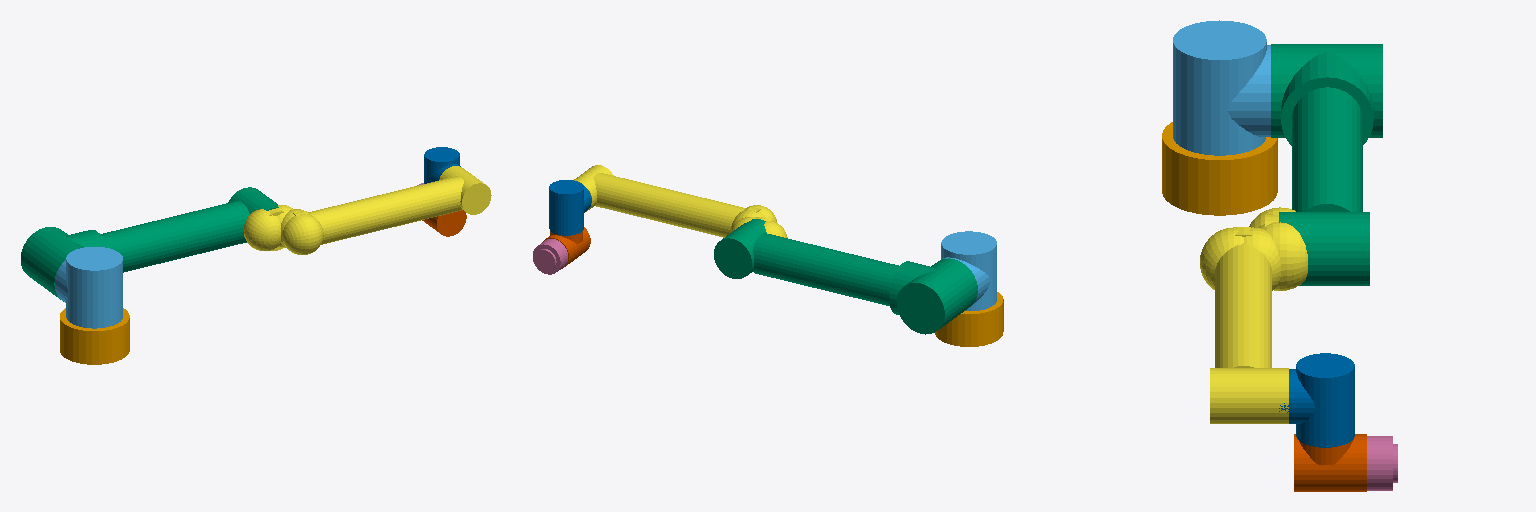
URDF robot description ([local-path]/hackweek/UR10e.urdf):
<?xml version="1.0"?>
<robot name="[local-path]/hackweek/UR10e.urdf" xmlns:xacro="http://ros.org/wiki/xacro">
  <link name="base_link">
    <visual>
      <origin xyz="0 0 0.05" rpy="-3.141592 0 0"/>
      <geometry>
        <cylinder radius="0.095" length="0.1"/>
      </geometry>
    </visual>
    <collision>
      <origin xyz="0 0 0.05" rpy="-3.141592 0 0"/>
      <geometry>
        <cylinder radius="0.095" length="0.1"/>
      </geometry>
    </collision>
  </link>
  <joint name="shoulder_pan_joint" type="revolute">
    <parent link="base_link"/>
    <child link="shoulder_link"/>
    <axis xyz="0 0 1"/>
    <limit effort="330" lower="-6.28319" upper="6.28319" velocity="3.14"/>
    <origin xyz="0 0 0.181" rpy="0 0 0"/>
  </joint>
  <link name="shoulder_link">
    <visual>
      <origin xyz="0 0 0" rpy="-3.141592 0 0"/>
      <geometry>
        <cylinder radius="0.077" length="0.183"/>
      </geometry>
    </visual>
    <collision>
      <origin xyz="0 0 0" rpy="-3.141592 0 0"/>
      <geometry>
        <cylinder radius="0.077" length="0.183"/>
      </geometry>
    </collision>
    <visual>
      <origin xyz="0 0.05 0" rpy="1.570797 0 0"/>
      <geometry>
        <cylinder radius="0.076" length="0.093"/>
      </geometry>
    </visual>
    <collision>
      <origin xyz="0 0.05 0" rpy="1.570797 0 0"/>
      <geometry>
        <cylinder radius="0.076" length="0.093"/>
      </geometry>
    </collision>
  </link>
  <joint name="shoulder_lift_joint" type="revolute">
    <parent link="shoulder_link"/>
    <child link="upper_arm_link"/>
    <axis xyz="0 1 0"/>
    <limit effort="330" lower="-6.28319" upper="6.28319" velocity="3.14"/>
    <origin xyz="0 0.176 0" rpy="0 1.570796 0"/>
  </joint>
  <link name="upper_arm_link">
    <visual>
      <origin xyz="0 0 0.33" rpy="-3.141592 0 0"/>
      <geometry>
        <cylinder radius="0.058" length="0.463"/>
      </geometry>
    </visual>
    <collision>
      <origin xyz="0 0 0.33" rpy="-3.141592 0 0"/>
      <geometry>
        <cylinder radius="0.058" length="0.463"/>
      </geometry>
    </collision>
    <visual>
      <origin xyz="0 0 0.06" rpy="-3.141592 0 0"/>
      <geometry>
        <cylinder radius="0.076" length="0.1"/>
      </geometry>
    </visual>
    <collision>
      <origin xyz="0 0 0.06" rpy="-3.141592 0 0"/>
      <geometry>
        <cylinder radius="0.076" length="0.1"/>
      </geometry>
    </collision>
    <visual>
      <origin xyz="0 0 0" rpy="-1.570796 0 0"/>
      <geometry>
        <cylinder radius="0.077" length="0.183"/>
      </geometry>
    </visual>
    <collision>
      <origin xyz="0 0 0" rpy="-1.570796 0 0"/>
      <geometry>
        <cylinder radius="0.077" length="0.183"/>
      </geometry>
    </collision>
    <visual>
      <origin xyz="0 -0.005 0.612" rpy="-1.570796 0 0"/>
      <geometry>
        <cylinder radius="0.061" length="0.149"/>
      </geometry>
    </visual>
    <collision>
      <origin xyz="0 -0.005 0.612" rpy="-1.570796 0 0"/>
      <geometry>
        <cylinder radius="0.061" length="0.149"/>
      </geometry>
    </collision>
  </link>
  <joint name="elbow_joint" type="revolute">
    <parent link="upper_arm_link"/>
    <child link="forearm_link"/>
    <axis xyz="0 1 0"/>
    <limit effort="150" lower="-3.14159" upper="3.14159" velocity="3.14"/>
    <origin xyz="0 -0.137 0.613" rpy="0 0 0"/>
  </joint>
  <link name="forearm_link">
    <visual>
      <origin xyz="0 0 0.307" rpy="-3.141592 0 0"/>
      <geometry>
        <cylinder radius="0.047" length="0.49"/>
      </geometry>
    </visual>
    <collision>
      <origin xyz="0 0 0.307" rpy="-3.141592 0 0"/>
      <geometry>
        <cylinder radius="0.047" length="0.49"/>
      </geometry>
    </collision>
    <visual>
      <origin xyz="0 0.009 0.57" rpy="-1.570796 0 0"/>
      <geometry>
        <cylinder radius="0.046" length="0.129"/>
      </geometry>
    </visual>
    <collision>
      <origin xyz="0 0.009 0.57" rpy="-1.570796 0 0"/>
      <geometry>
        <cylinder radius="0.046" length="0.129"/>
      </geometry>
    </collision>
    <visual>
      <origin xyz="0 0.06 0" rpy="-1.570796 0 0"/>
      <geometry>
        <cylinder radius="0.058" length="0.05"/>
      </geometry>
    </visual>
    <collision>
      <origin xyz="0 0.06 0" rpy="-1.570796 0 0"/>
      <geometry>
        <cylinder radius="0.058" length="0.05"/>
      </geometry>
    </collision>
    <visual>
      <origin xyz="0 0.06 -0.025" rpy="-1.570796 0 0"/>
      <geometry>
        <sphere radius="0.058"/>
      </geometry>
    </visual>
    <collision>
      <origin xyz="0 0.06 -0.025" rpy="-1.570796 0 0"/>
      <geometry>
        <sphere radius="0.058"/>
      </geometry>
    </collision>
    <visual>
      <origin xyz="0 0.06 0.025" rpy="-1.570796 0 0"/>
      <geometry>
        <sphere radius="0.058"/>
      </geometry>
    </visual>
    <collision>
      <origin xyz="0 0.06 0.025" rpy="-1.570796 0 0"/>
      <geometry>
        <sphere radius="0.058"/>
      </geometry>
    </collision>
    <visual>
      <origin xyz="0 0 0.05" rpy="0 0 0"/>
      <geometry>
        <cylinder radius="0.057" length="0.03"/>
      </geometry>
    </visual>
    <collision>
      <origin xyz="0 0 0.05" rpy="0 0 0"/>
      <geometry>
        <cylinder radius="0.057" length="0.03"/>
      </geometry>
    </collision>
    <visual>
      <origin xyz="0 0.015 0.05" rpy="0 0 0"/>
      <geometry>
        <sphere radius="0.057"/>
      </geometry>
    </visual>
    <collision>
      <origin xyz="0 0.015 0.05" rpy="0 0 0"/>
      <geometry>
        <sphere radius="0.057"/>
      </geometry>
    </collision>
    <visual>
      <origin xyz="0 -0.015 0.05" rpy="0 0 0"/>
      <geometry>
        <sphere radius="0.057"/>
      </geometry>
    </visual>
    <collision>
      <origin xyz="0 -0.015 0.05" rpy="0 0 0"/>
      <geometry>
        <sphere radius="0.057"/>
      </geometry>
    </collision>
  </link>
  <joint name="wrist_1_joint" type="revolute">
    <parent link="forearm_link"/>
    <child link="wrist_1_link"/>
    <axis xyz="0 1 0"/>
    <limit effort="54" lower="-6.28319" upper="6.28319" velocity="6.28"/>
    <origin xyz="0 0 0.571" rpy="0 1.570796 0"/>
  </joint>
  <link name="wrist_1_link">
    <visual>
      <origin xyz="0 0.095 0" rpy="-1.570796 0 0"/>
      <geometry>
        <cylinder radius="0.045" length="0.075"/>
      </geometry>
    </visual>
    <collision>
      <origin xyz="0 0.095 0" rpy="-1.570796 0 0"/>
      <geometry>
        <cylinder radius="0.045" length="0.075"/>
      </geometry>
    </collision>
    <visual>
      <origin xyz="0 0.134 0.007" rpy="-3.141592 0 0"/>
      <geometry>
        <cylinder radius="0.048" length="0.126"/>
      </geometry>
    </visual>
    <collision>
      <origin xyz="0 0.134 0.007" rpy="-3.141592 0 0"/>
      <geometry>
        <cylinder radius="0.048" length="0.126"/>
      </geometry>
    </collision>
  </link>
  <joint name="wrist_2_joint" type="revolute">
    <parent link="wrist_1_link"/>
    <child link="wrist_2_link"/>
    <axis xyz="0 0 1"/>
    <limit effort="54" lower="-6.28319" upper="6.28319" velocity="6.28"/>
    <origin xyz="0 0.135 0" rpy="0 0 0"/>
  </joint>
  <link name="wrist_2_link">
    <visual>
      <origin xyz="0 0.007 0.1195" rpy="-1.570796 0 0"/>
      <geometry>
        <cylinder radius="0.047" length="0.12"/>
      </geometry>
    </visual>
    <collision>
      <origin xyz="0 0.007 0.1195" rpy="-1.570796 0 0"/>
      <geometry>
        <cylinder radius="0.047" length="0.12"/>
      </geometry>
    </collision>
    <visual>
      <origin xyz="0 0 0.0805" rpy="-3.141592 0 0"/>
      <geometry>
        <cylinder radius="0.046" length="0.043"/>
      </geometry>
    </visual>
    <collision>
      <origin xyz="0 0 0.0805" rpy="-3.141592 0 0"/>
      <geometry>
        <cylinder radius="0.046" length="0.043"/>
      </geometry>
    </collision>
  </link>
  <joint name="wrist_3_joint" type="revolute">
    <parent link="wrist_2_link"/>
    <child link="wrist_3_link"/>
    <axis xyz="0 1 0"/>
    <limit effort="54" lower="-6.28319" upper="6.28319" velocity="6.28"/>
    <origin xyz="0 0 0.12" rpy="0 0 0"/>
  </joint>
  <link name="wrist_3_link">
    <visual>
      <origin xyz="0 0.086 0" rpy="-1.570796 0 0"/>
      <geometry>
        <cylinder radius="0.045" length="0.048"/>
      </geometry>
    </visual>
    <collision>
      <origin xyz="0 0.086 0" rpy="-1.570796 0 0"/>
      <geometry>
        <cylinder radius="0.045" length="0.048"/>
      </geometry>
    </collision>
    <visual>
      <origin xyz="0 0.109 0" rpy="-1.570796 0 0"/>
      <geometry>
        <cylinder radius="0.032" length="0.018"/>
      </geometry>
    </visual>
    <collision>
      <origin xyz="0 0.109 0" rpy="-1.570796 0 0"/>
      <geometry>
        <cylinder radius="0.032" length="0.018"/>
      </geometry>
    </collision>
  </link>
</robot>

--- Facts derived from the render (not from the file) ---
3 views of the same robot in one strip: view 1: azimuth 30°, elevation 25°; view 2: azimuth 150°, elevation 25°; view 3: azimuth 270°, elevation 25° (orthographic).
Model [local-path]/hackweek/UR10e.urdf with 7 links and 6 joints (6 revolute), rooted at base_link, posed all joints at 0.
Links seen in each view (by area): view 1: forearm_link, upper_arm_link, shoulder_link, base_link, wrist_1_link, wrist_2_link; view 2: upper_arm_link, forearm_link, shoulder_link, base_link, wrist_1_link, wrist_3_link, wrist_2_link; view 3: upper_arm_link, forearm_link, shoulder_link, base_link, wrist_1_link, wrist_2_link, wrist_3_link.
Link boxes in pixels (bbox=[...]): forearm_link: bbox=[244, 166, 491, 254]; upper_arm_link: bbox=[21, 187, 278, 301]; shoulder_link: bbox=[55, 247, 122, 328]; base_link: bbox=[60, 308, 129, 364]; wrist_1_link: bbox=[424, 147, 460, 183]; wrist_2_link: bbox=[422, 210, 466, 236]; upper_arm_link: bbox=[714, 219, 977, 334]; forearm_link: bbox=[574, 165, 787, 237]; shoulder_link: bbox=[941, 231, 996, 310]; base_link: bbox=[935, 292, 1003, 346]; wrist_1_link: bbox=[549, 180, 591, 235]; wrist_3_link: bbox=[533, 239, 567, 274]; wrist_2_link: bbox=[543, 227, 590, 268]; upper_arm_link: bbox=[1271, 44, 1382, 285]; forearm_link: bbox=[1200, 207, 1307, 423]; shoulder_link: bbox=[1173, 20, 1270, 155]; base_link: bbox=[1162, 122, 1277, 215]; wrist_1_link: bbox=[1279, 353, 1354, 447]; wrist_2_link: bbox=[1294, 434, 1366, 491]; wrist_3_link: bbox=[1367, 436, 1397, 490].
Size in the robot's own frame: 1.33 by 0.387 by 0.2725 metres.
Geometry: primitives only (box / cylinder / sphere), no mesh files.
